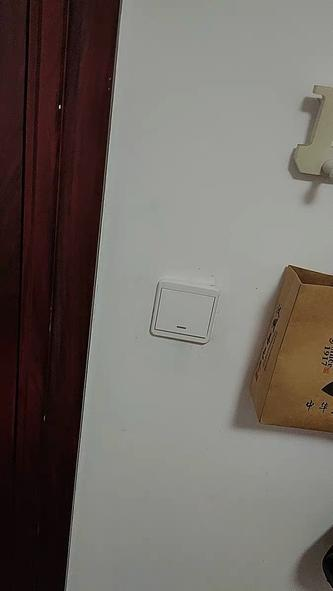switch: (165, 287, 212, 347)
